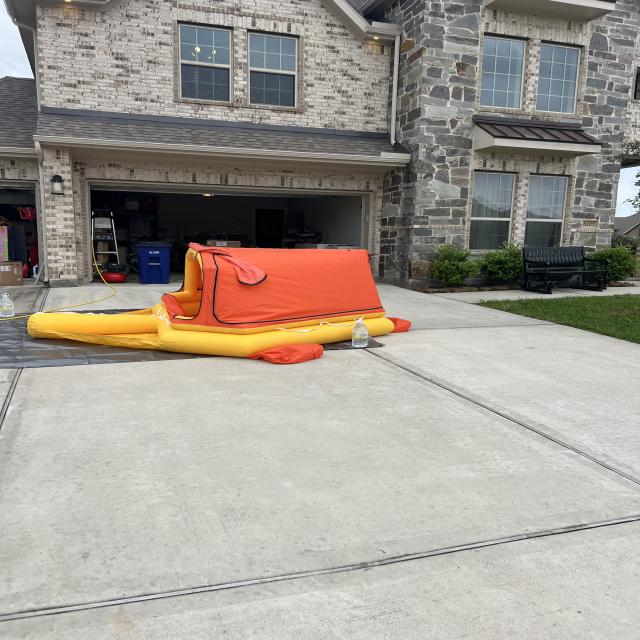Multi-person_life_raft: (27, 242, 412, 364)
